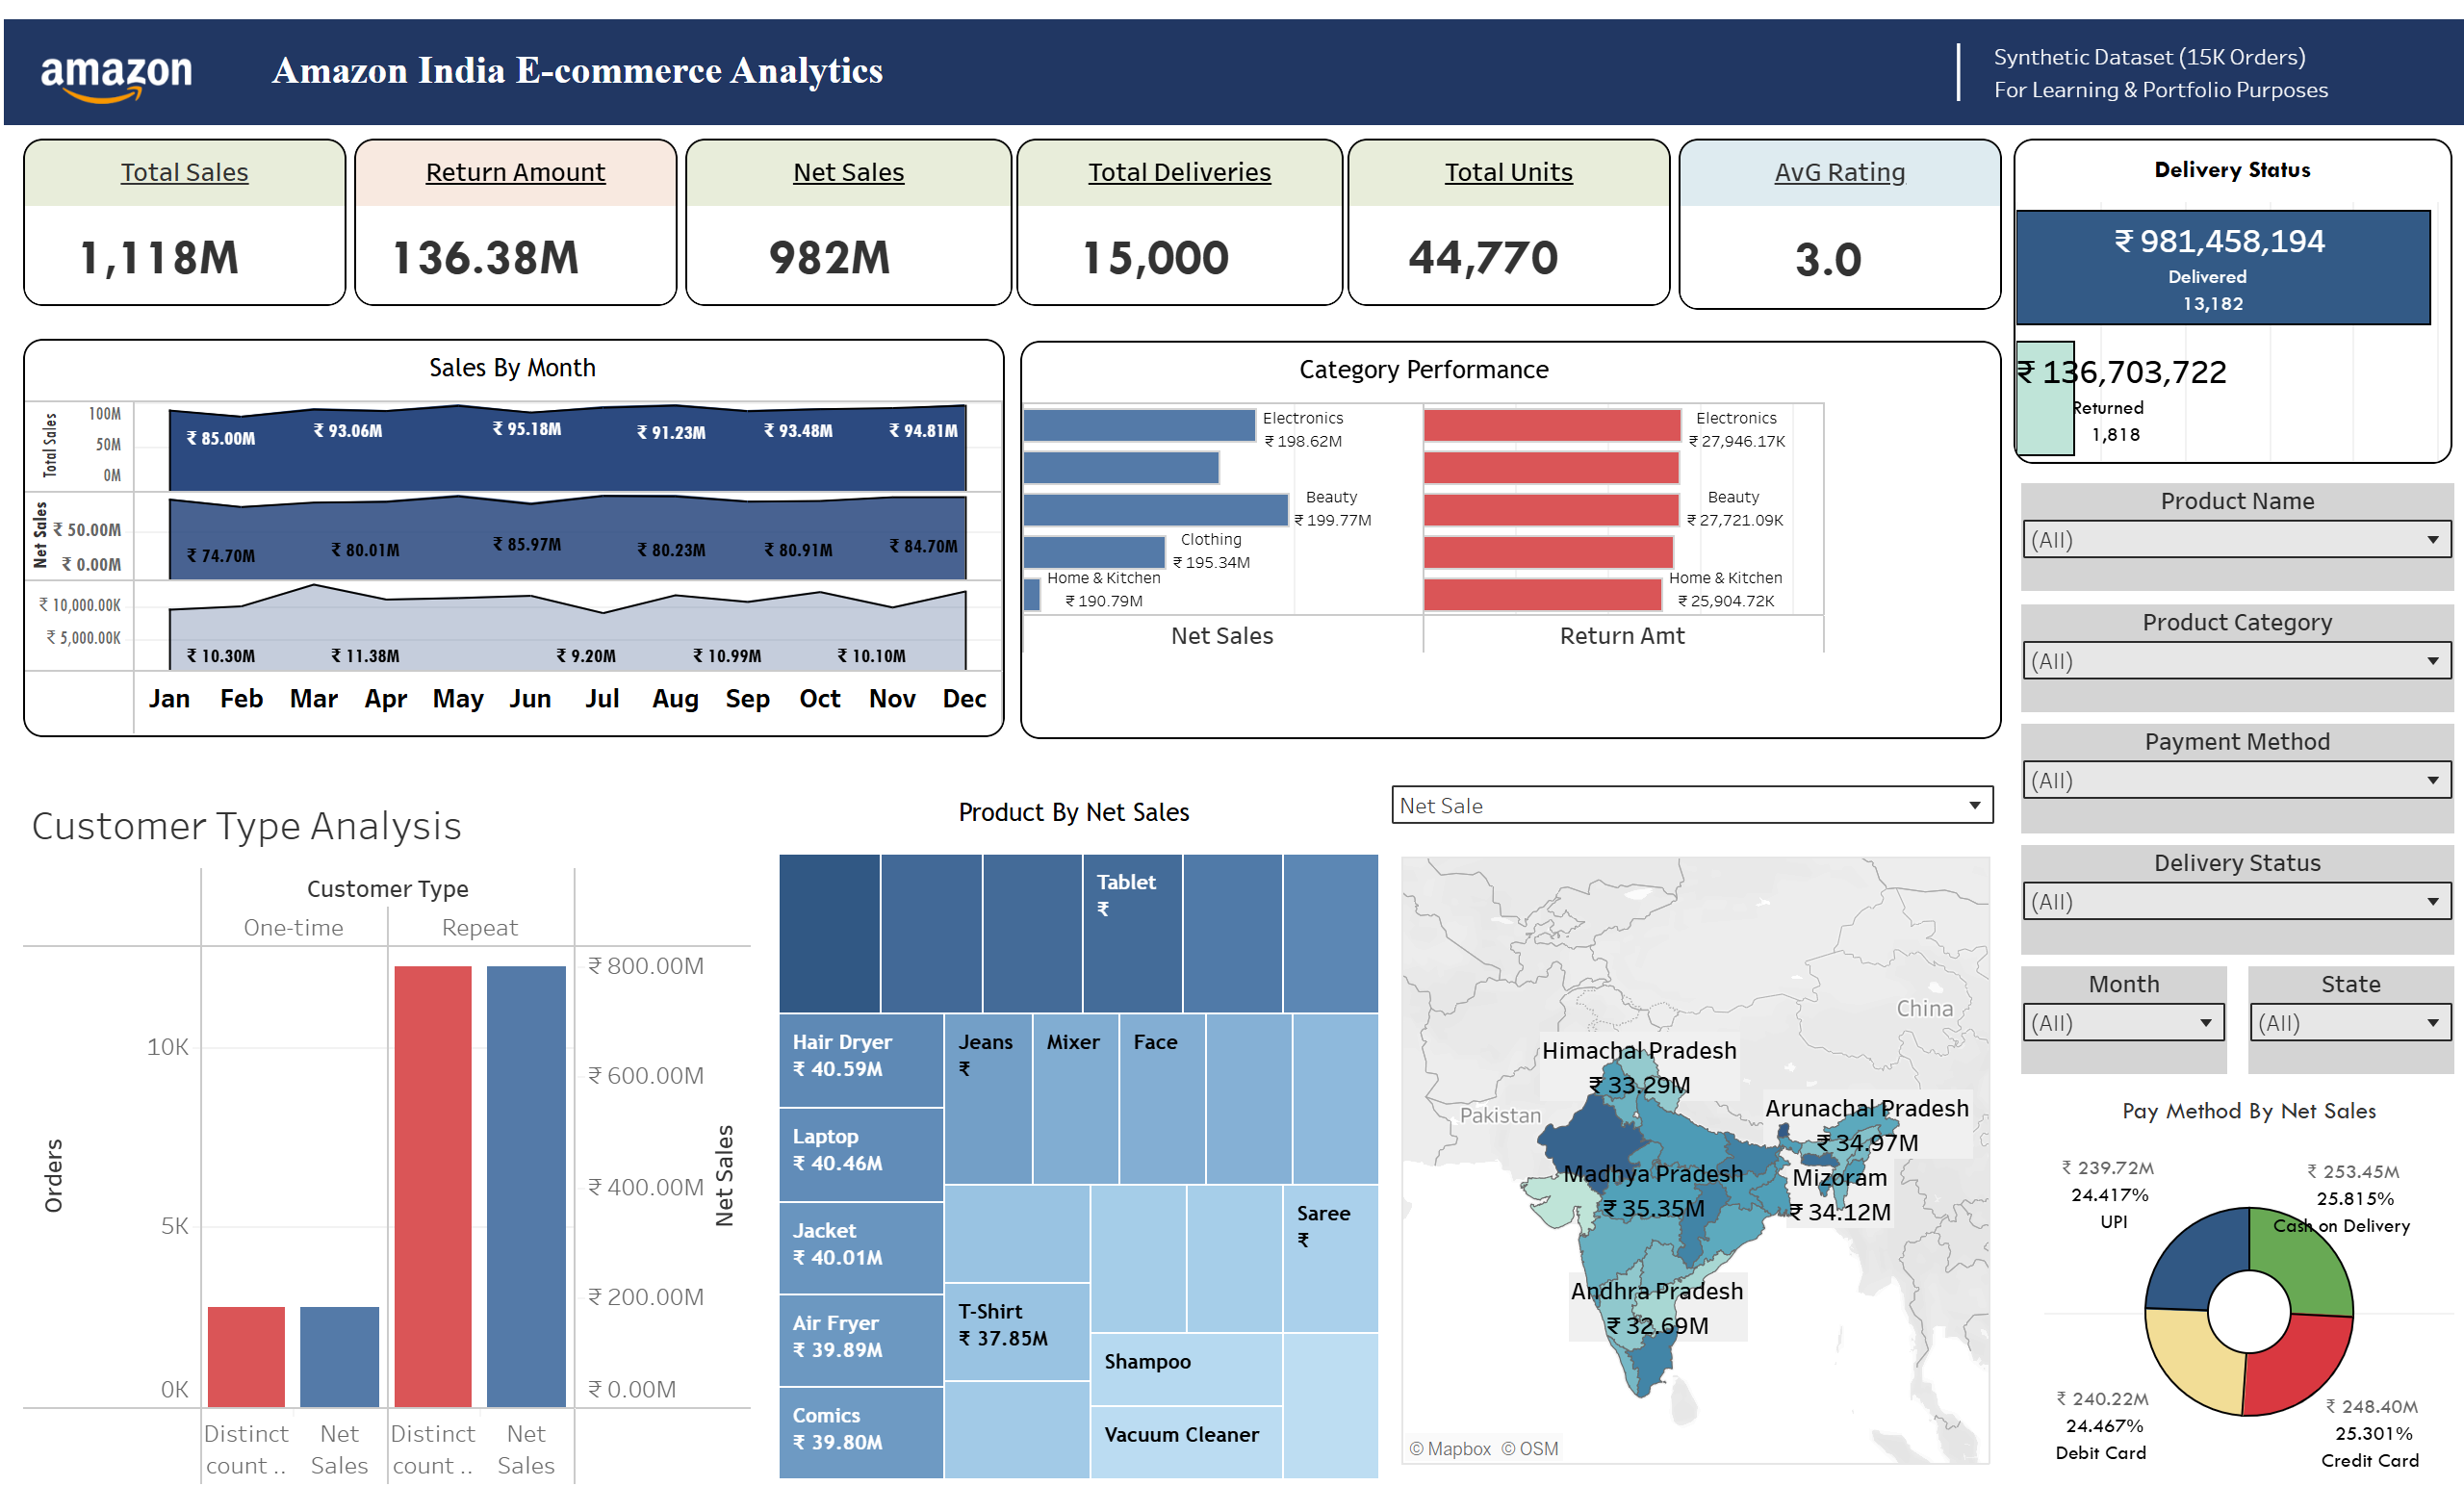

What the dashboard file says about the page in this screenshot:
{"tool":"tableau","page":{"name":"Dashboard 1","canvas":[1000,1000],"units":"permille","ordinal":0},"visuals":[{"type":"text","box":[790.8,9.7,19.8,66.6]},{"type":"text","box":[1.9,13,999.1,71.4]},{"type":"text","box":[110.3,19.5,472.2,55.2]},{"type":"text","box":[809.6,21.1,183.8,55.2]},{"type":"image","param":"Image/Amazon-Logo-White-PNG-Pic.png","box":[16,30.8,68.8,39]},{"type":"worksheet","title":"Total Sales Card","mark":"Automatic","box":[9.3,92.5,131.6,113.6]},{"type":"worksheet","title":"Return Amt Card","mark":"Automatic","box":[143.7,92.5,131.6,113.6]},{"type":"worksheet","title":"Net Sale Card","mark":"Automatic","box":[278,92.5,132.5,113.6]},{"type":"worksheet","title":"Total Deliveries","mark":"Automatic","box":[412.4,92.5,132.5,113.6]},{"type":"worksheet","title":"Total Units Card","mark":"Automatic","box":[546.8,92.5,131.6,113.6]},{"type":"worksheet","title":"AvG Rating","mark":"Text","box":[681.2,92.5,131.6,115.3]},{"type":"worksheet","title":"Delivery Status","mark":"Bar","rows":["Delivery_Status"],"cols":["Total_Sales_INR"],"box":[817.4,92.5,177.9,219.2]},{"type":"worksheet","title":"Sales By Month","mark":"Area","rows":["Total_Sales_INR","Net_Sales_INR","Return Amount_INR"],"cols":["Date"],"box":[9.3,227.3,398.5,267.9]},{"type":"worksheet","title":"Bar Chrat Category","mark":"Bar","rows":["Product_Category"],"cols":["Net_Sales_INR","Return Amount_INR"],"box":[414.3,228.9,398.5,267.9]},{"type":"filter","title":"AvG Rating","param":"[federated.0d4y05914wde501gqro5j0xemp7q].[none:Product_Name:nk]","box":[820.2,324.7,176.1,73]},{"type":"filter","title":"AvG Rating","param":"[federated.0d4y05914wde501gqro5j0xemp7q].[none:Product_Category:nk]","box":[820.2,405.8,176.1,73]},{"type":"filter","title":"AvG Rating","param":"[federated.0d4y05914wde501gqro5j0xemp7q].[none:Payment_Method:nk]","box":[820.2,487,176.1,73]},{"type":"worksheet","title":"Customer Type Analysis","mark":"Bar","rows":["Order_ID","Net_Sales_INR"],"cols":["Calculation_2337338297688076"],"box":[9.3,527.6,296.6,470.8]},{"type":"worksheet","title":"Product Net Sales","mark":"Automatic","box":[312.3,527.6,250.2,470.8]},{"type":"parameter","param":"[Parameters].[Parameter 2337338264723457]","box":[564.4,527.6,245.6,32.5]},{"type":"worksheet","title":"Total Sale ( Map )","mark":"Automatic","box":[565.3,568.2,245.6,1.6]},{"type":"filter","title":"AvG Rating","param":"[federated.0d4y05914wde501gqro5j0xemp7q].[none:Delivery_Status:nk]","box":[820.2,568.2,176.1,73]},{"type":"worksheet","title":"Return Sale ( Map ) ","mark":"Automatic","box":[565.3,569.8,245.6,1.6]},{"type":"worksheet","title":"Net Sale ( Map )","mark":"Automatic","box":[565.3,571.4,245.6,418.8]},{"type":"filter","title":"AvG Rating","param":"[federated.0d4y05914wde501gqro5j0xemp7q].[mn:Date:ok]","box":[820.2,649.4,83.4,73]},{"type":"filter","title":"AvG Rating","param":"[federated.0d4y05914wde501gqro5j0xemp7q].[none:State:nk]","box":[912.9,649.4,83.4,73]},{"type":"worksheet","title":"Pay_Method ( NetSales )","mark":"Pie","rows":["Calculation_509751205955792897","Calculation_509751205956026371"],"box":[829.5,727.3,166.8,267.9]}]}

Visuals, with their boxes on the dashboard's canvas, which has no fixed pixel size, in thousandths of its width and height (x1, y1, x2, y2). These are canvas units, not pixel positions in the 2464x1486 screenshot, which may show the page scaled, cropped or inside an application window:
text: Rect(791, 10, 811, 76)
text: Rect(2, 13, 1001, 84)
text: Rect(110, 20, 582, 75)
text: Rect(810, 21, 993, 76)
image: Rect(16, 31, 85, 70)
"Total Sales Card" worksheet: Rect(9, 92, 141, 206)
"Return Amt Card" worksheet: Rect(144, 92, 275, 206)
"Net Sale Card" worksheet: Rect(278, 92, 410, 206)
"Total Deliveries" worksheet: Rect(412, 92, 545, 206)
"Total Units Card" worksheet: Rect(547, 92, 678, 206)
"AvG Rating" worksheet (Text marks): Rect(681, 92, 813, 208)
"Delivery Status" worksheet (Bar marks): Rect(817, 92, 995, 312)
"Sales By Month" worksheet (Area marks): Rect(9, 227, 408, 495)
"Bar Chrat Category" worksheet (Bar marks): Rect(414, 229, 813, 497)
"AvG Rating" filter: Rect(820, 325, 996, 398)
"AvG Rating" filter: Rect(820, 406, 996, 479)
"AvG Rating" filter: Rect(820, 487, 996, 560)
"Customer Type Analysis" worksheet (Bar marks): Rect(9, 528, 306, 998)
"Product Net Sales" worksheet: Rect(312, 528, 562, 998)
parameter: Rect(564, 528, 810, 560)
"Total Sale ( Map )" worksheet: Rect(565, 568, 811, 570)
"AvG Rating" filter: Rect(820, 568, 996, 641)
"Return Sale ( Map ) " worksheet: Rect(565, 570, 811, 571)
"Net Sale ( Map )" worksheet: Rect(565, 571, 811, 990)
"AvG Rating" filter: Rect(820, 649, 904, 722)
"AvG Rating" filter: Rect(913, 649, 996, 722)
"Pay_Method ( NetSales )" worksheet (Pie marks): Rect(830, 727, 996, 995)
